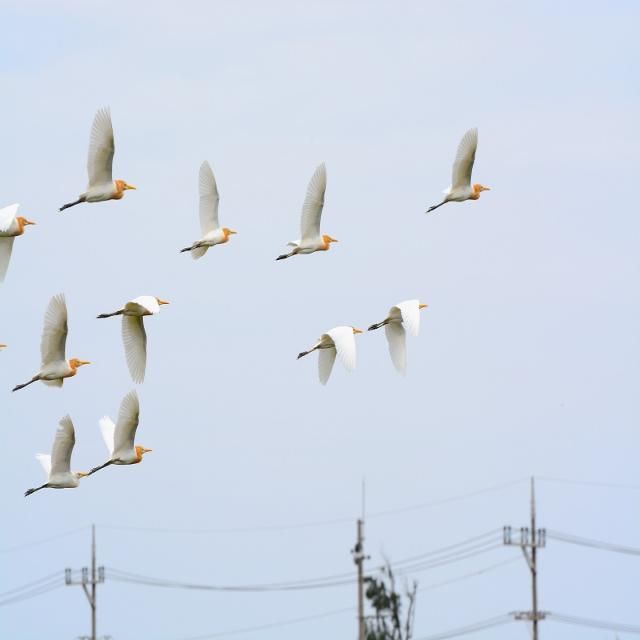bird: (65, 105, 140, 208), (16, 293, 92, 389), (96, 296, 170, 392), (278, 167, 343, 257), (428, 125, 492, 212), (184, 163, 242, 256), (364, 299, 432, 377), (94, 391, 154, 474), (27, 415, 88, 495), (299, 322, 363, 389), (0, 203, 38, 281)
